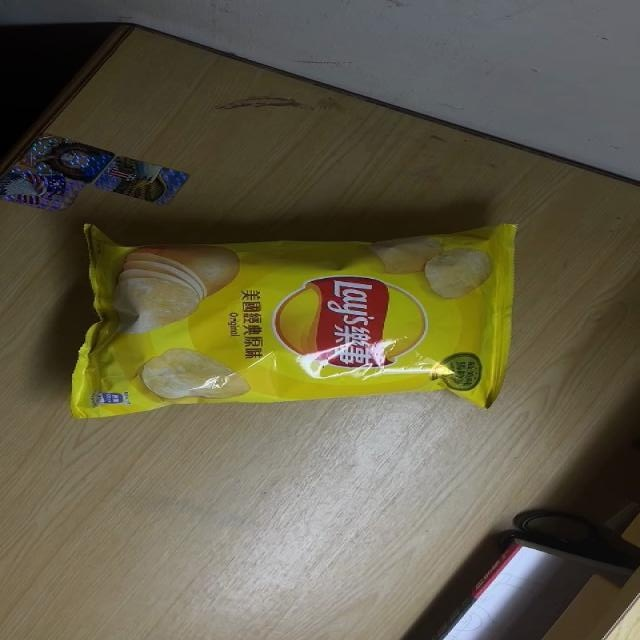Lay-s-original: (74, 219, 523, 421)
